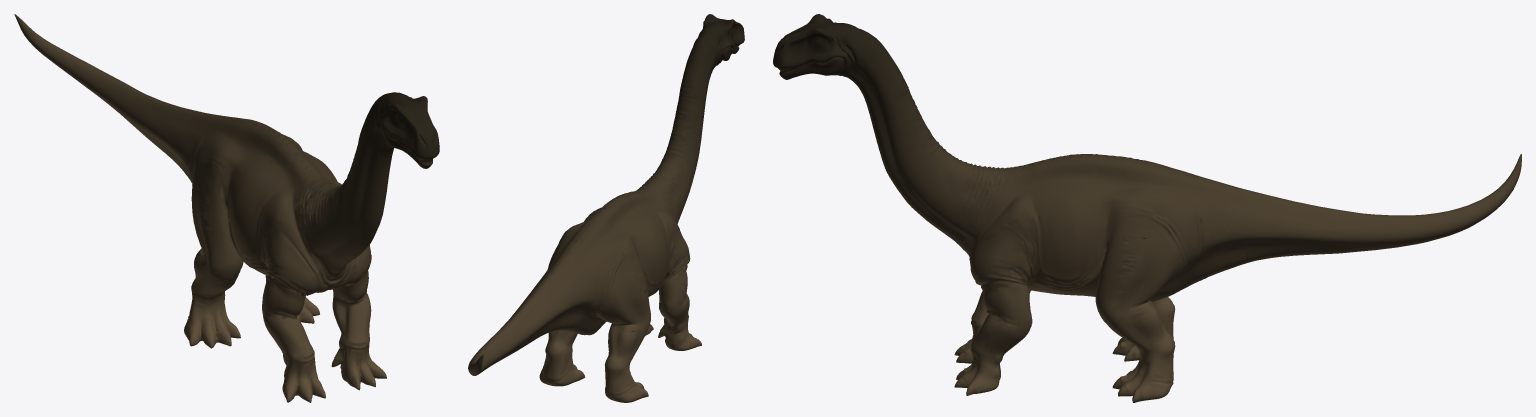
Rendered from brachiosaurus.glb.
The picture shows the model from 3 angles, left to right: view 1: azimuth 30°, elevation 25°; view 2: azimuth 150°, elevation 25°; view 3: azimuth 270°, elevation 25°; orthographic projection. The views are drawn at different scales.
Visible parts, largest first — view 1: brachiosaurus; view 2: brachiosaurus; view 3: brachiosaurus.
Part boxes in pixels (bbox=[...]): brachiosaurus: bbox=[14, 14, 439, 402]; brachiosaurus: bbox=[468, 14, 744, 402]; brachiosaurus: bbox=[773, 14, 1521, 402].
Size of the model in its own units: 0.2257 by 0.5711 by 1.11.
